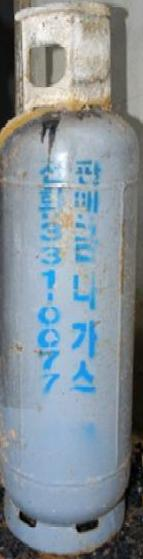cylinder: (0, 1, 143, 559)
